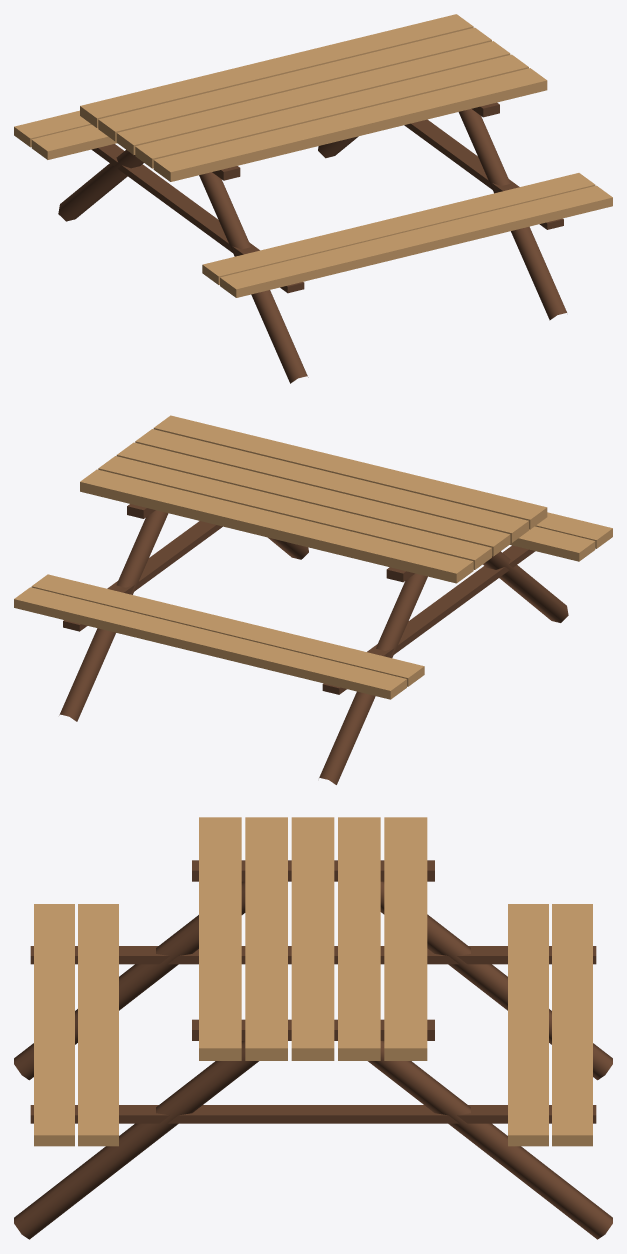
File: mesa-piquenique.glb
The picture shows the model from 3 angles, top to bottom: view 1: azimuth 30°, elevation 25°; view 2: azimuth 150°, elevation 25°; view 3: azimuth 270°, elevation 25°; orthographic projection. The views are drawn at different scales.
Visible parts, largest first — view 1: Tampo, Bancos, Estrutura; view 2: Tampo, Bancos, Estrutura; view 3: Tampo, Bancos, Estrutura.
Part boxes in pixels (left/top/right/bottom): Tampo: left=80, top=14, right=547, bottom=181; Bancos: left=14, top=110, right=612, bottom=297; Estrutura: left=58, top=102, right=566, bottom=383; Tampo: left=80, top=415, right=547, bottom=583; Bancos: left=14, top=512, right=612, bottom=699; Estrutura: left=59, top=504, right=568, bottom=784; Tampo: left=199, top=817, right=427, bottom=1060; Bancos: left=34, top=904, right=592, bottom=1146; Estrutura: left=14, top=860, right=612, bottom=1239.
Size of the model in its own units: 1.8 by 0.8146 by 1.97.
